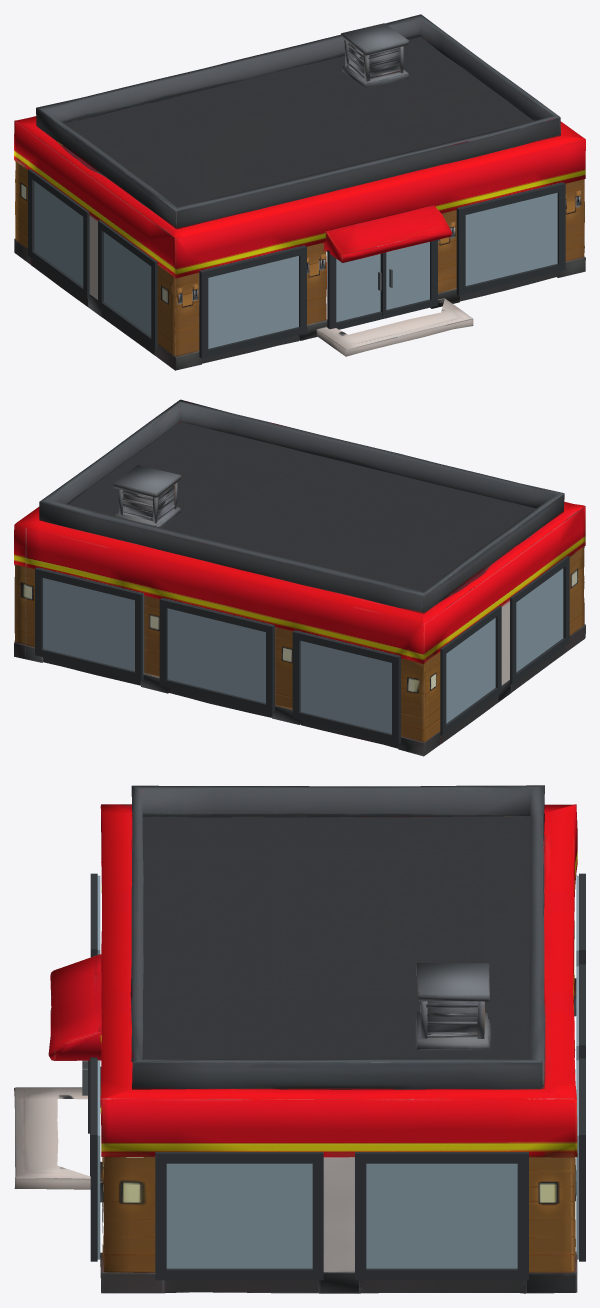
File: FastFoodRestaurant_Exterior.fbx
3 views of the same model, one above another, from view 1: azimuth 30°, elevation 25°; view 2: azimuth 150°, elevation 25°; view 3: azimuth 270°, elevation 25° (orthographic). The views are drawn at different scales.
Parts seen in each view (by area): view 1: FastFoodRestaurant_Exterior; view 2: FastFoodRestaurant_Exterior; view 3: FastFoodRestaurant_Exterior.
Boxes of the visible parts, x1,y1,x2,y2 form: FastFoodRestaurant_Exterior: [14, 14, 585, 370]; FastFoodRestaurant_Exterior: [14, 399, 585, 756]; FastFoodRestaurant_Exterior: [14, 785, 585, 1293].
Size of the model in its own units: 101 by 39.73 by 82.23.
Materials: 4 (1 with a texture image).
